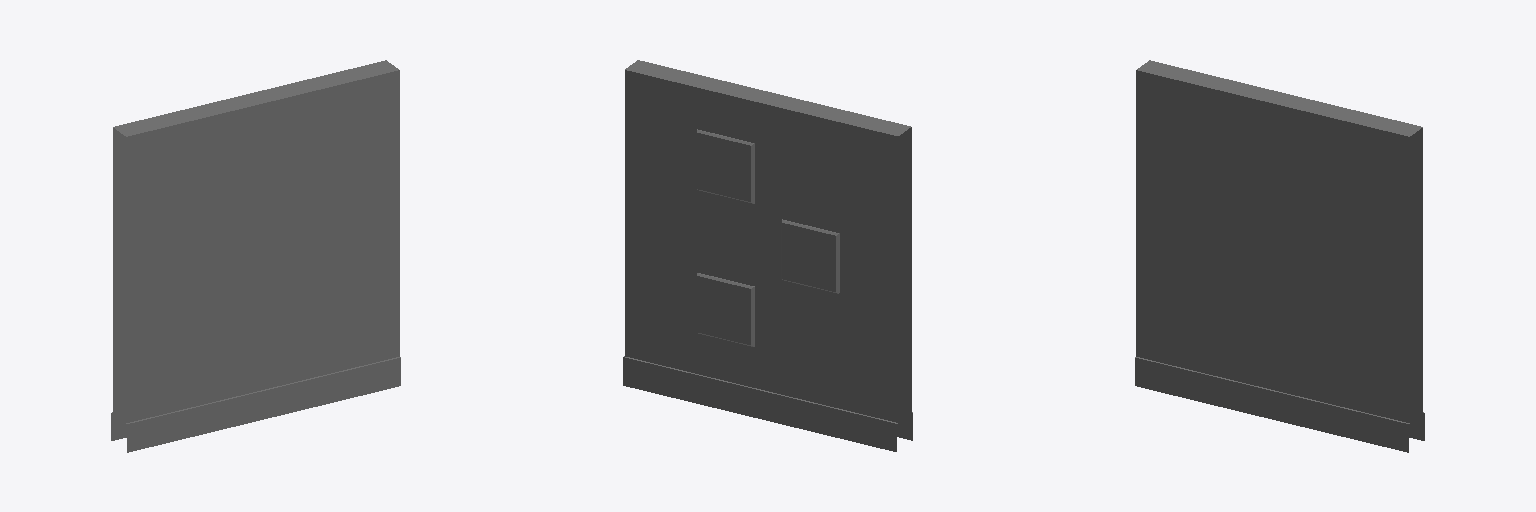
The model's file is Dartwall.obj.
The picture shows the model from 3 angles: view 1: azimuth 30°, elevation 25°; view 2: azimuth 150°, elevation 25°; view 3: azimuth 330°, elevation 25°; orthographic projection.
Visible parts, largest first — view 1: wallTile; view 2: wallTile; view 3: wallTile.
Boxes of the visible parts, x1,y1,x2,y2 form: wallTile: [111, 60, 400, 452]; wallTile: [623, 60, 912, 451]; wallTile: [1135, 60, 1424, 452].
Bounding box in the file's own units: 500 × 550 × 51.48.